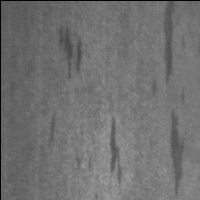inclusion: (162, 107, 193, 199), (101, 112, 132, 192), (157, 2, 183, 91), (54, 16, 86, 82), (41, 99, 65, 158), (72, 145, 96, 171)
